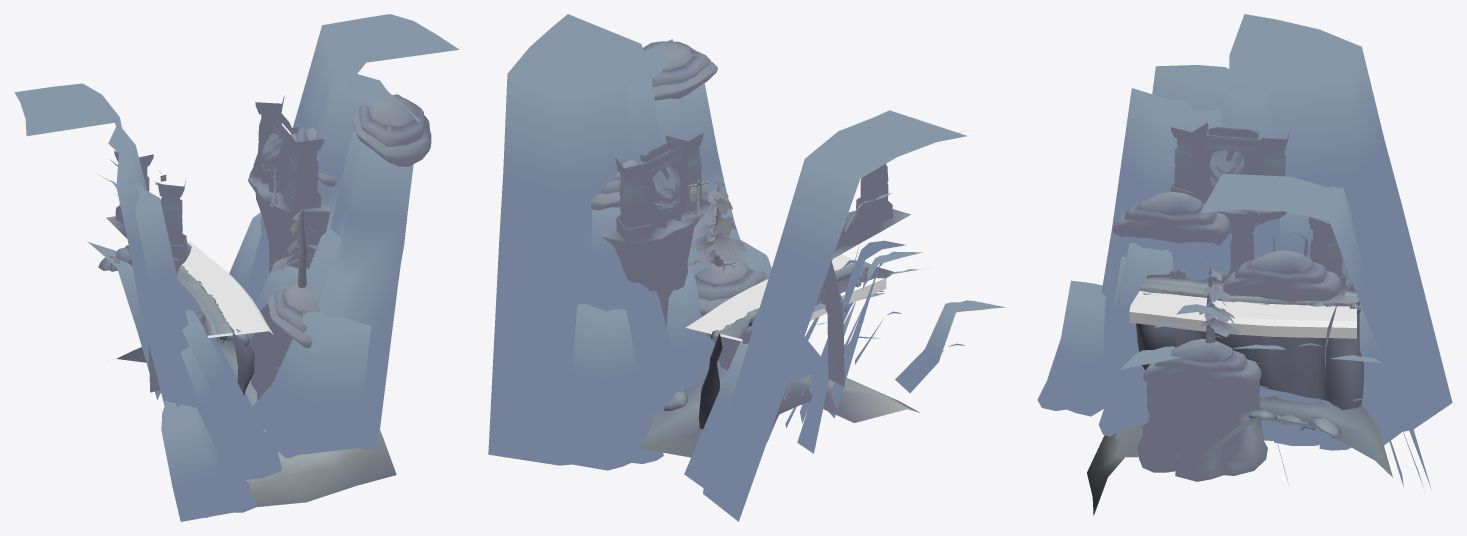
The model's file is Arctic_Narrows_Right_Curve_Right_15_A.glb.
3 views of the same model, side by side, from view 1: azimuth 30°, elevation 25°; view 2: azimuth 150°, elevation 25°; view 3: azimuth 270°, elevation 25° (orthographic). The views are drawn at different scales.
Parts seen in each view (by area): view 1: Arctic_Narrows_Right_Curve_Right_15_A, inv_fill; view 2: Arctic_Narrows_Right_Curve_Right_15_A, inv_fill; view 3: Arctic_Narrows_Right_Curve_Right_15_A, inv_fill.
Part boxes in pixels (x1,y1,x2,y2): Arctic_Narrows_Right_Curve_Right_15_A: [14, 14, 459, 521]; inv_fill: [181, 241, 273, 337]; Arctic_Narrows_Right_Curve_Right_15_A: [488, 14, 1006, 521]; inv_fill: [685, 254, 886, 341]; Arctic_Narrows_Right_Curve_Right_15_A: [1037, 14, 1452, 515]; inv_fill: [1129, 291, 1356, 338].
Size of what is drawn, in the model's own units: 23.28 by 19.62 by 20.25.
